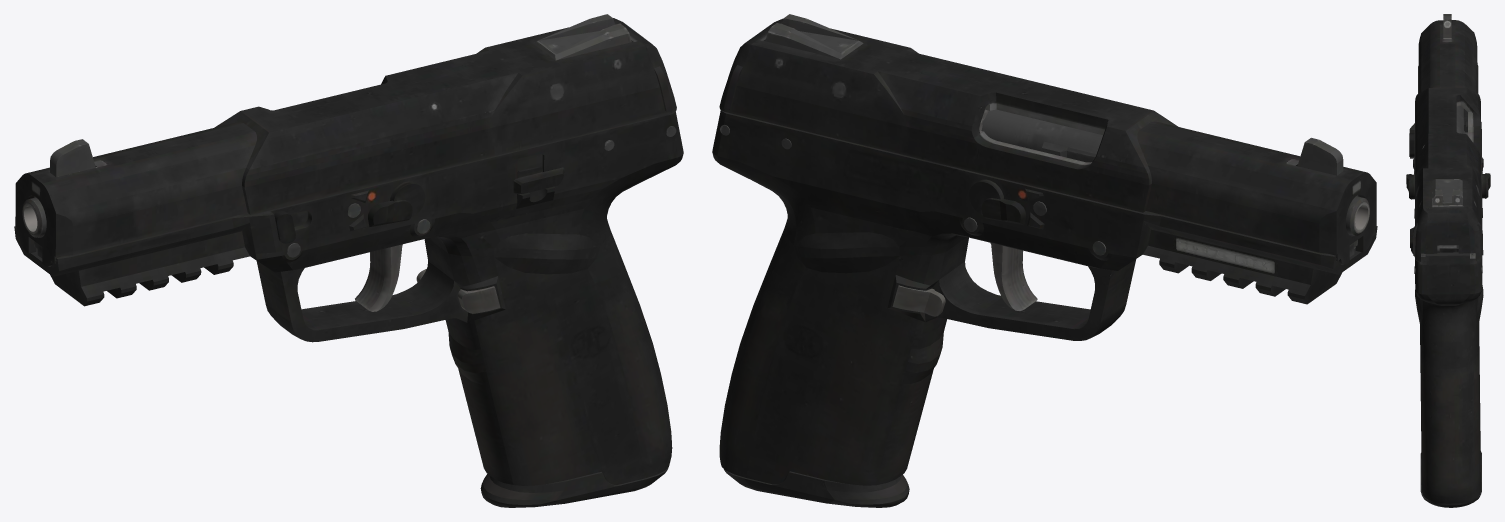
File: weapon_fiveseven.glb
The picture shows the model from 3 angles, left to right: view 1: azimuth 30°, elevation 25°; view 2: azimuth 150°, elevation 25°; view 3: azimuth 270°, elevation 25°; orthographic projection. The views are drawn at different scales.
Visible parts, largest first — view 1: main_frame_fiveseven, slide_fiveseven, magazine_fiveseven, rear_sight_fiveseven, trigger_fiveseven, front_sight_fiveseven, chamber_fiveseven; view 2: main_frame_fiveseven, slide_fiveseven, chamber_fiveseven, magazine_fiveseven, rear_sight_fiveseven, trigger_fiveseven, front_sight_fiveseven; view 3: main_frame_fiveseven, slide_fiveseven, rear_sight_fiveseven, magazine_fiveseven, front_sight_fiveseven, chamber_fiveseven.
Part boxes in pixels (x1,y1,x2,y2): main_frame_fiveseven: (14, 111, 683, 485); slide_fiveseven: (15, 18, 676, 266); magazine_fiveseven: (480, 467, 668, 507); rear_sight_fiveseven: (533, 14, 631, 60); trigger_fiveseven: (355, 244, 402, 311); front_sight_fiveseven: (50, 139, 95, 177); chamber_fiveseven: (22, 197, 46, 237); main_frame_fiveseven: (712, 110, 1377, 485); slide_fiveseven: (719, 18, 1376, 264); chamber_fiveseven: (981, 109, 1369, 235); magazine_fiveseven: (723, 468, 909, 507); rear_sight_fiveseven: (765, 14, 863, 59); trigger_fiveseven: (990, 243, 1037, 310); front_sight_fiveseven: (1297, 137, 1343, 175); main_frame_fiveseven: (1406, 65, 1490, 503); slide_fiveseven: (1413, 20, 1483, 261); rear_sight_fiveseven: (1432, 179, 1462, 205); magazine_fiveseven: (1420, 245, 1481, 507); front_sight_fiveseven: (1443, 14, 1451, 38); chamber_fiveseven: (1456, 106, 1465, 133).
Size of the model in its own units: 26.57 by 18.71 by 4.63.
3 materials, 3 textured.
